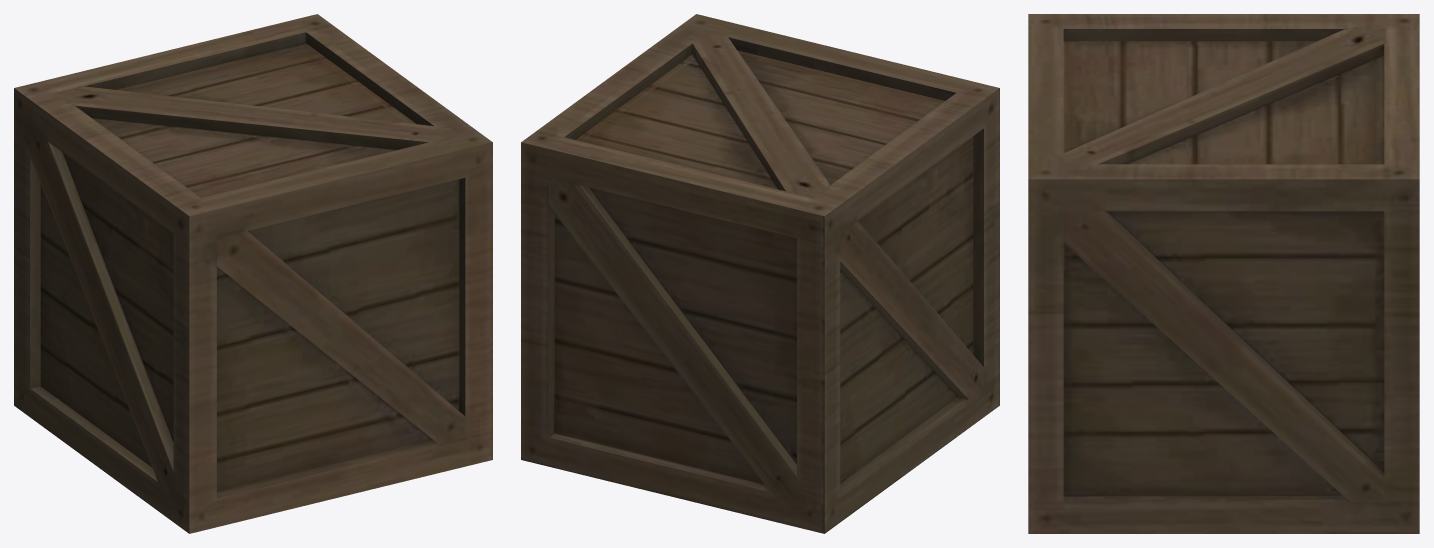
File: crate.l.72f2cb06.glb
3 renders of one model, left to right at view 1: azimuth 30°, elevation 25°; view 2: azimuth 150°, elevation 25°; view 3: azimuth 270°, elevation 25°, orthographic. The views are drawn at different scales.
Parts seen in each view (by area): view 1: crate1; view 2: crate1; view 3: crate1.
Boxes of the visible parts, <box> form: crate1: <box>14,14,492,533</box>; crate1: <box>521,14,999,533</box>; crate1: <box>1028,14,1419,533</box>.
Size of the model in its own units: 0.8818 by 0.882 by 0.8821.
1 material, 1 textured.
